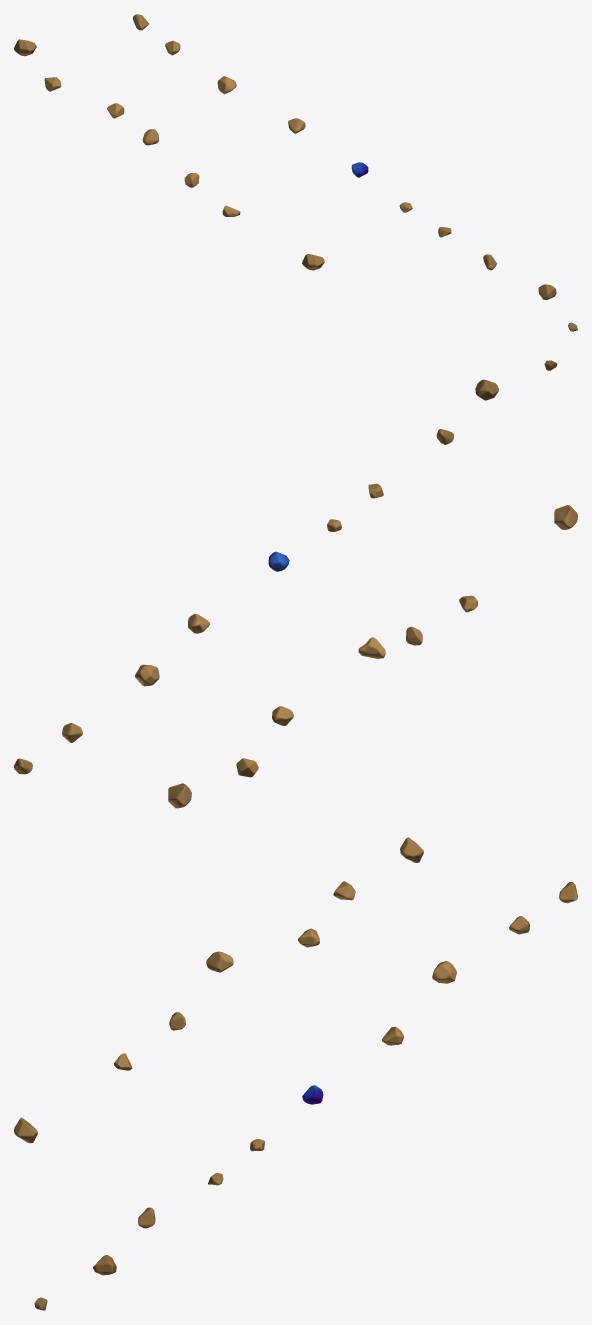
Rendered from asteroids_mini.fbx.
The picture shows the model from 3 angles, top to bottom: view 1: azimuth 30°, elevation 25°; view 2: azimuth 150°, elevation 25°; view 3: azimuth 330°, elevation 25°; orthographic projection. The views are drawn at different scales.
Bounding box in the file's own units: 14.01 × 2.75 × 60.01.
